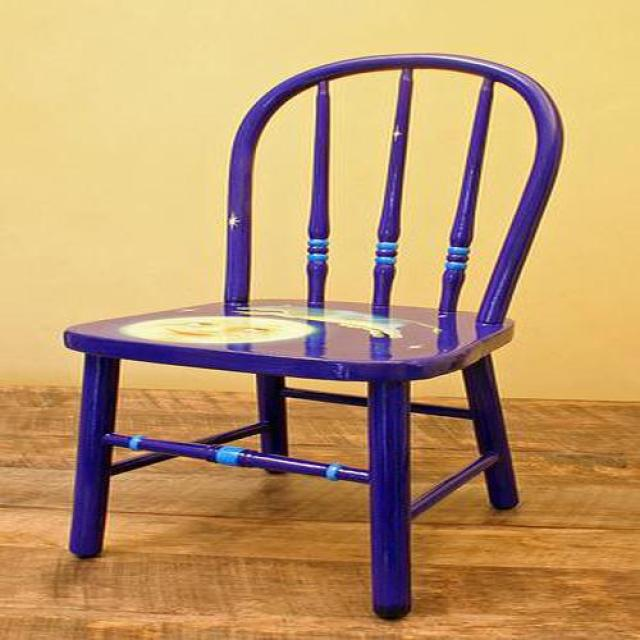chair: (64, 54, 564, 622)
